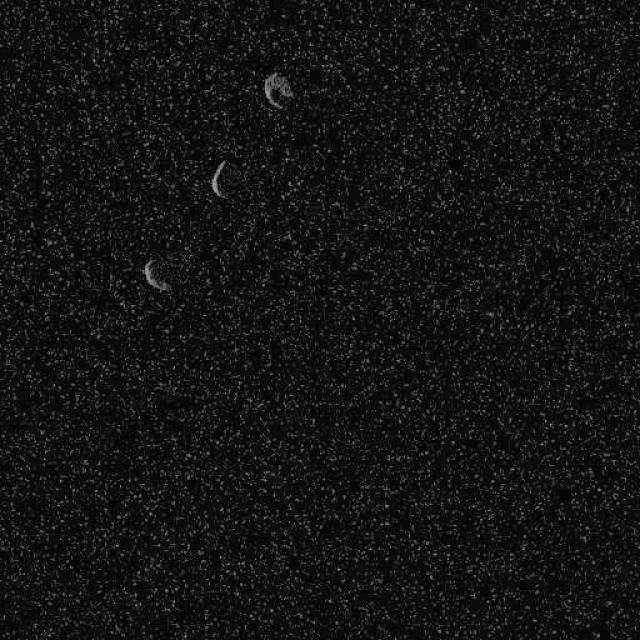D2: (262, 70, 294, 110), (142, 258, 172, 294), (210, 158, 229, 198)
